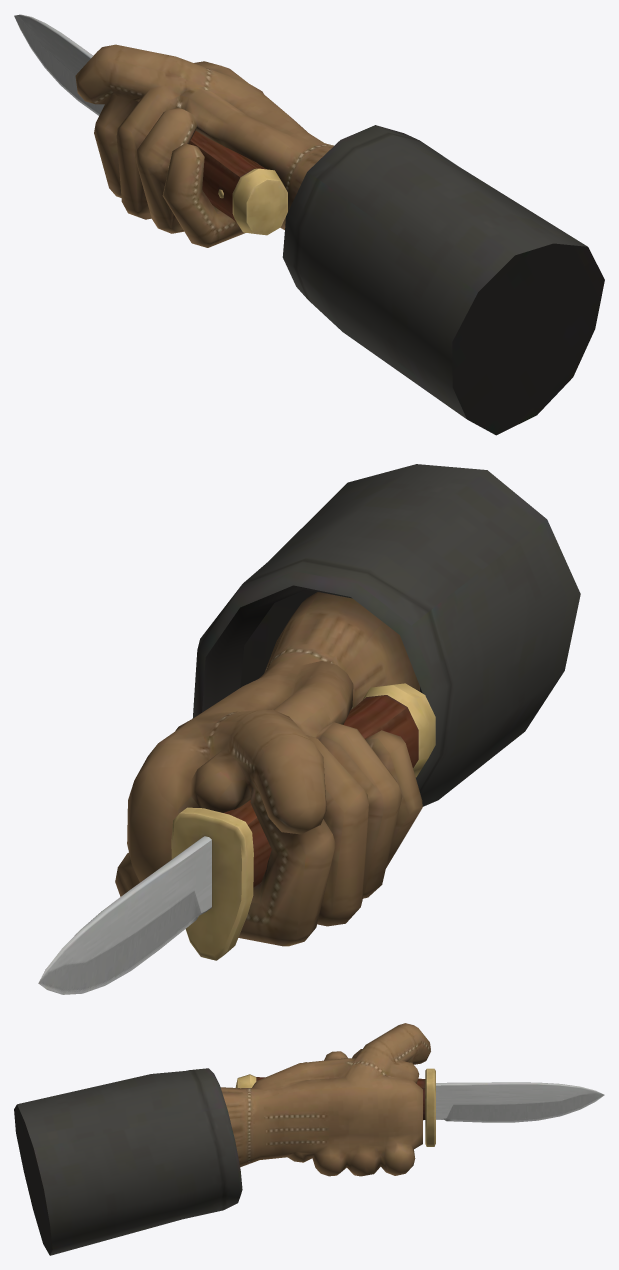
File: skinning-knife.phone.glb
3 renders of one model, top to bottom at view 1: azimuth 30°, elevation 25°; view 2: azimuth 150°, elevation 25°; view 3: azimuth 270°, elevation 25°, orthographic. The views are drawn at different scales.
Visible parts, largest first — view 1: knife_hand; view 2: knife_hand; view 3: knife_hand.
Part boxes in pixels (left/top/right/bottom): knife_hand: left=14, top=14, right=604, bottom=435; knife_hand: left=38, top=464, right=580, bottom=994; knife_hand: left=14, top=1023, right=604, bottom=1255.
Size of the model in its own units: 0.1346 by 0.1128 by 0.3507.
Materials: 1 (1 with a texture image).
